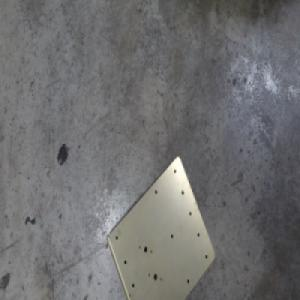MetalSheet: (105, 152, 216, 300)
